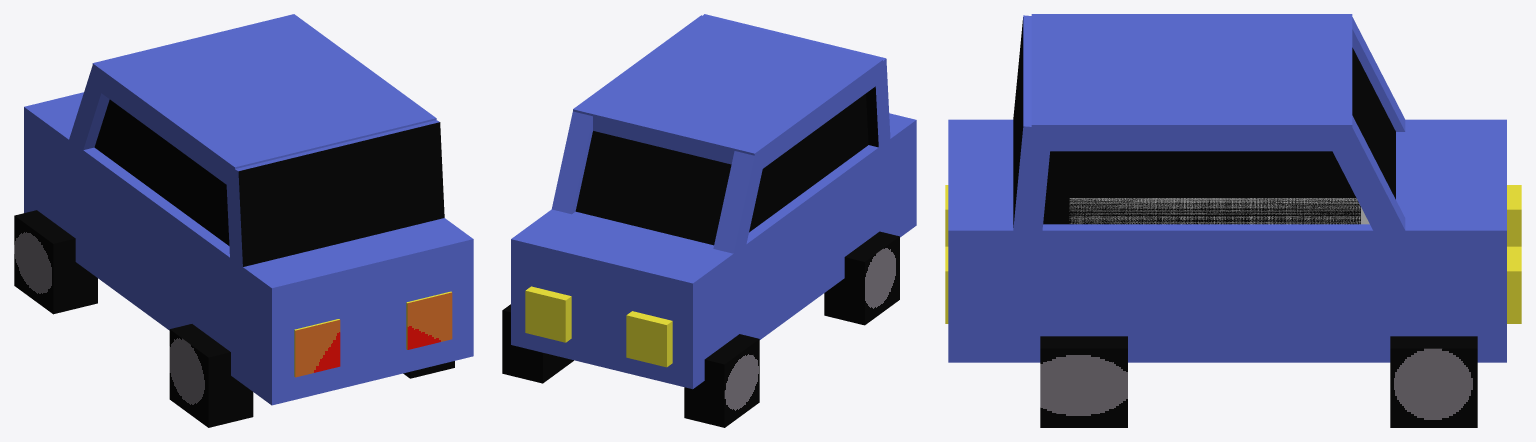
The model's file is carro lixo.fbx.
3 renders of one model, left to right at view 1: azimuth 30°, elevation 25°; view 2: azimuth 150°, elevation 25°; view 3: azimuth 270°, elevation 25°, orthographic. The views are drawn at different scales.
Visible parts, largest first — view 1: cube_1, cube_9_1, cube_10_1, cube_11_1, cube_2_1, cube_1_2, cube_6_3, cube_5_3, cube_8_1, cube_13_1; view 2: cube_1, cube_9_1, cube_15_1, cube_11_1, cube_1_2, cube_2_1, cube_8_1, cube_7_1, cube_5_1, cube_6_1, cube_10_1, cube_4_1; view 3: cube_1, cube_9_1, cube_12_1, cube_3_1, cube_4_1, cube_14_1, cube_10_1, cube_7_1, cube_15_1, cube_8_1, cube_6_1, cube_5_1.
Part boxes in pixels (bbox=[...]): cube_1: bbox=[24, 92, 473, 405]; cube_9_1: bbox=[92, 14, 436, 189]; cube_10_1: bbox=[225, 120, 444, 291]; cube_11_1: bbox=[100, 99, 228, 242]; cube_2_1: bbox=[169, 324, 253, 427]; cube_1_2: bbox=[14, 210, 97, 314]; cube_6_3: bbox=[406, 291, 452, 349]; cube_5_3: bbox=[294, 319, 340, 377]; cube_8_1: bbox=[65, 65, 109, 168]; cube_13_1: bbox=[94, 131, 229, 245]; cube_1: bbox=[511, 113, 916, 389]; cube_9_1: bbox=[573, 15, 882, 168]; cube_15_1: bbox=[575, 131, 731, 245]; cube_11_1: bbox=[749, 93, 868, 232]; cube_1_2: bbox=[684, 334, 759, 427]; cube_2_1: bbox=[824, 231, 899, 325]; cube_8_1: bbox=[713, 151, 765, 269]; cube_7_1: bbox=[552, 111, 592, 214]; cube_5_1: bbox=[626, 311, 672, 367]; cube_6_1: bbox=[525, 286, 571, 342]; cube_10_1: bbox=[703, 14, 891, 169]; cube_4_1: bbox=[502, 304, 573, 383]; cube_1: bbox=[948, 119, 1506, 362]; cube_9_1: bbox=[1031, 14, 1352, 151]; cube_12_1: bbox=[1043, 151, 1360, 224]; cube_3_1: bbox=[1040, 336, 1127, 427]; cube_4_1: bbox=[1390, 336, 1477, 427]; cube_14_1: bbox=[1069, 198, 1369, 224]; cube_10_1: bbox=[1010, 15, 1049, 259]; cube_7_1: bbox=[1326, 115, 1413, 257]; cube_15_1: bbox=[1352, 47, 1395, 199]; cube_8_1: bbox=[1352, 17, 1405, 131]; cube_6_1: bbox=[1507, 246, 1521, 323]; cube_5_1: bbox=[1507, 185, 1521, 246].
Size of the model in its own units: 2707 by 2707 by 4861.
Materials: 5 (5 with a texture image).
